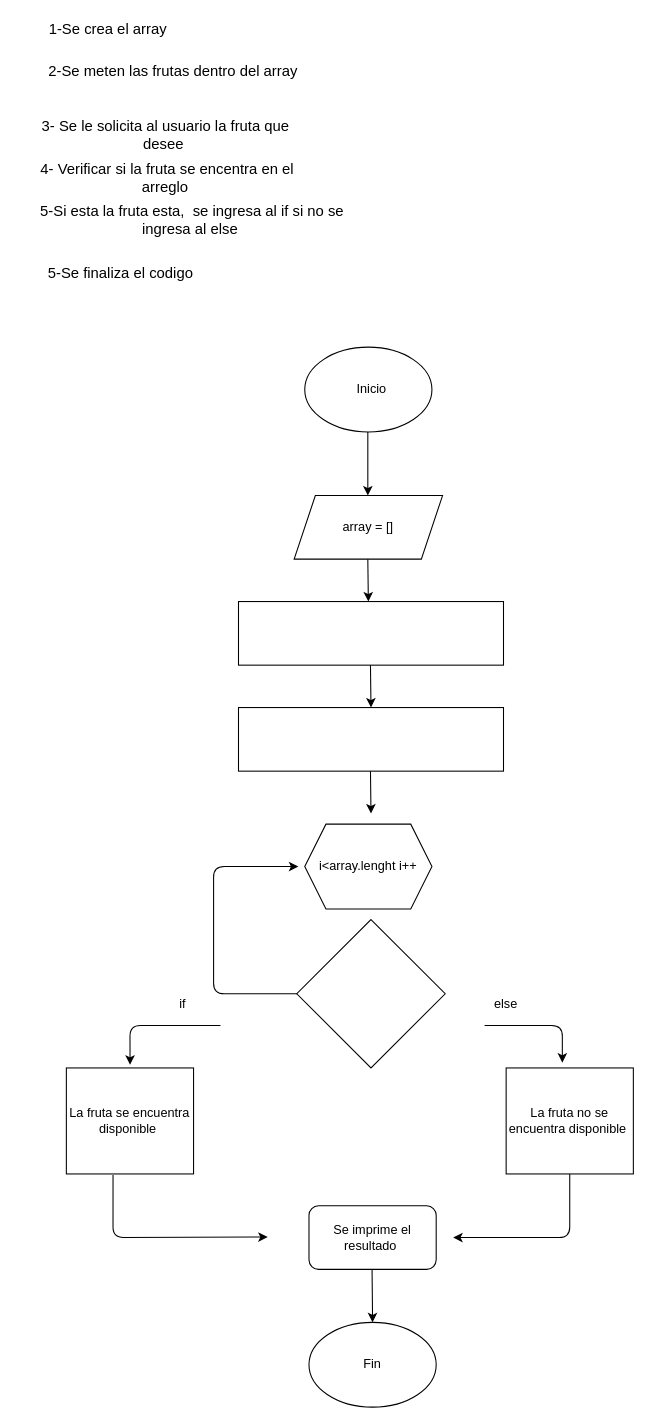
Some shapes in this 652 by 1426 pixel diagram are drawn without their labels. The shapes that lost their labels are listed below. From the top down, each one's centre as x and y in pixels, then its label:
the point at 370,632: Se meten las frutas dentro del array array.psuh
the point at 370,738: Se le solicita al usuario la fruta que desea
the point at 370,993: fruta === farray[i]
